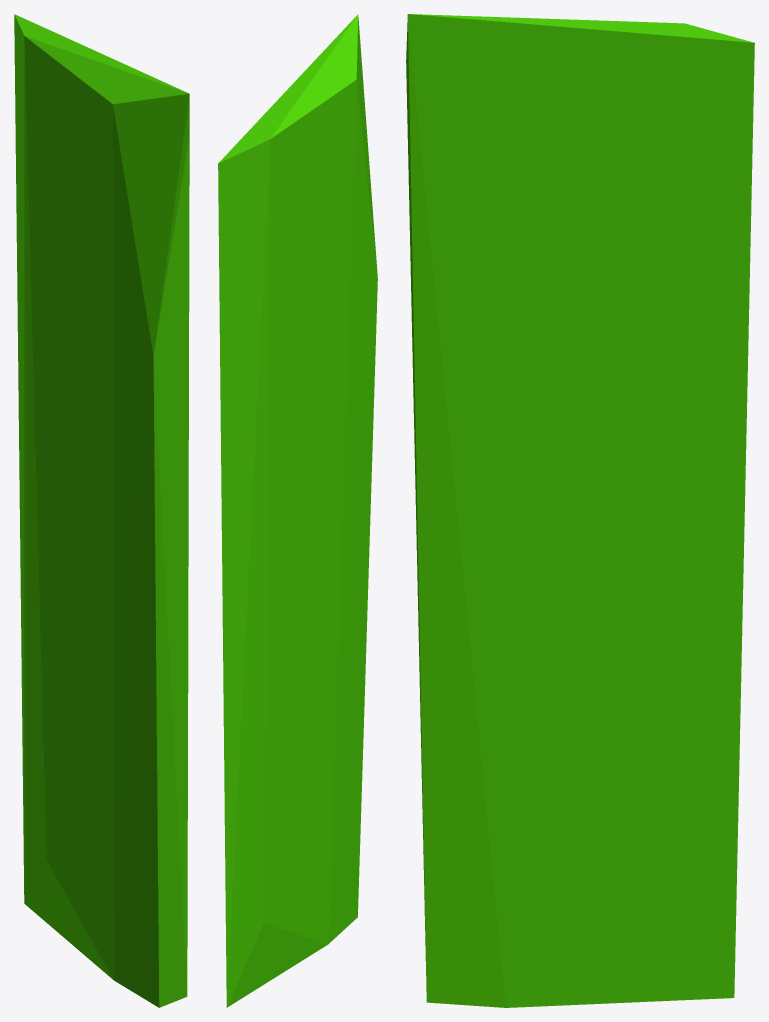
The model's file is recycle_bin_convex_piece_011.obj.
3 renders of one model, left to right at view 1: azimuth 30°, elevation 25°; view 2: azimuth 150°, elevation 25°; view 3: azimuth 270°, elevation 25°, orthographic. The views are drawn at different scales.
Size of the model in its own units: 0.0199 by 0.394 by 0.1249.
